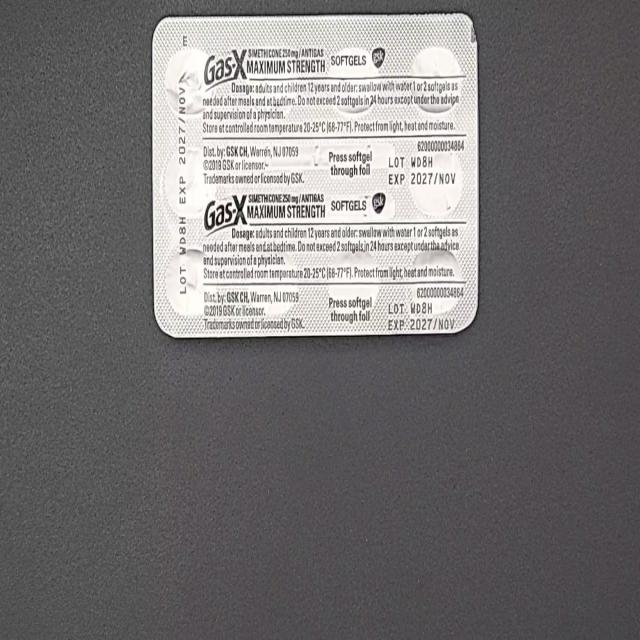no defect: (7, 19, 29, 69)
